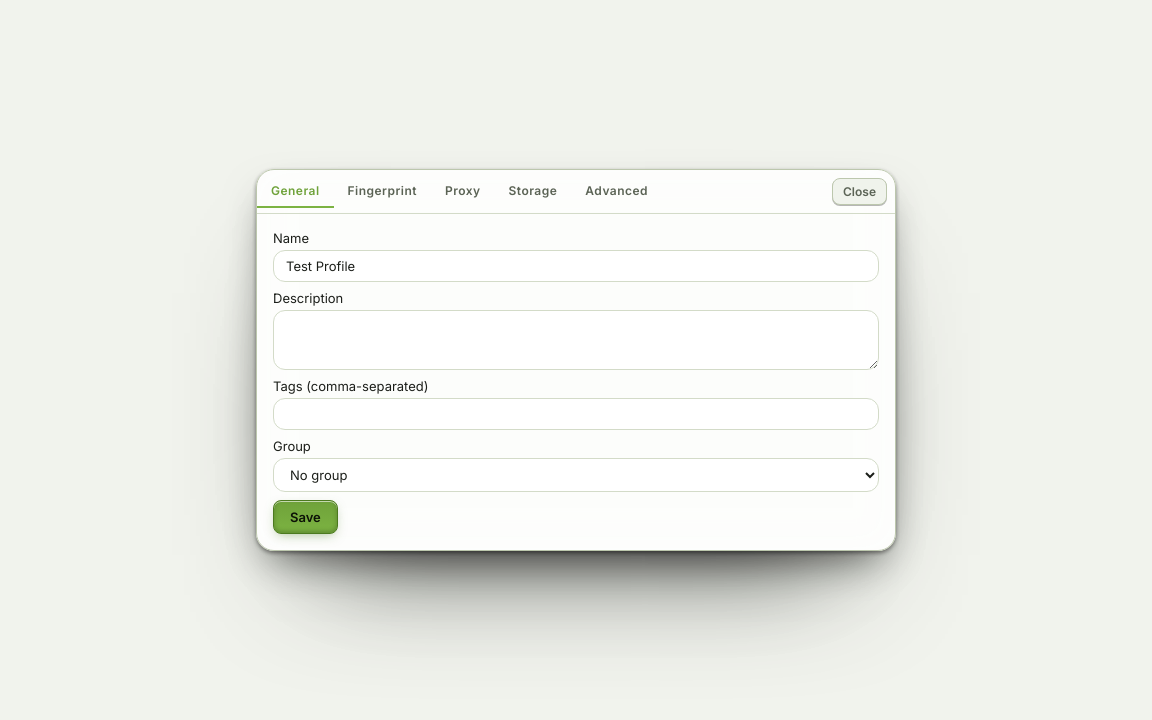
Test: ProfileEditorModal — per-tab unsaved-changes marker › saving General clears its dirty dot
Replace the text in the field labelled "Name" with "Renamed Profile" at x=576, y=266, box top-left (273, 250), bottom-right (879, 282)
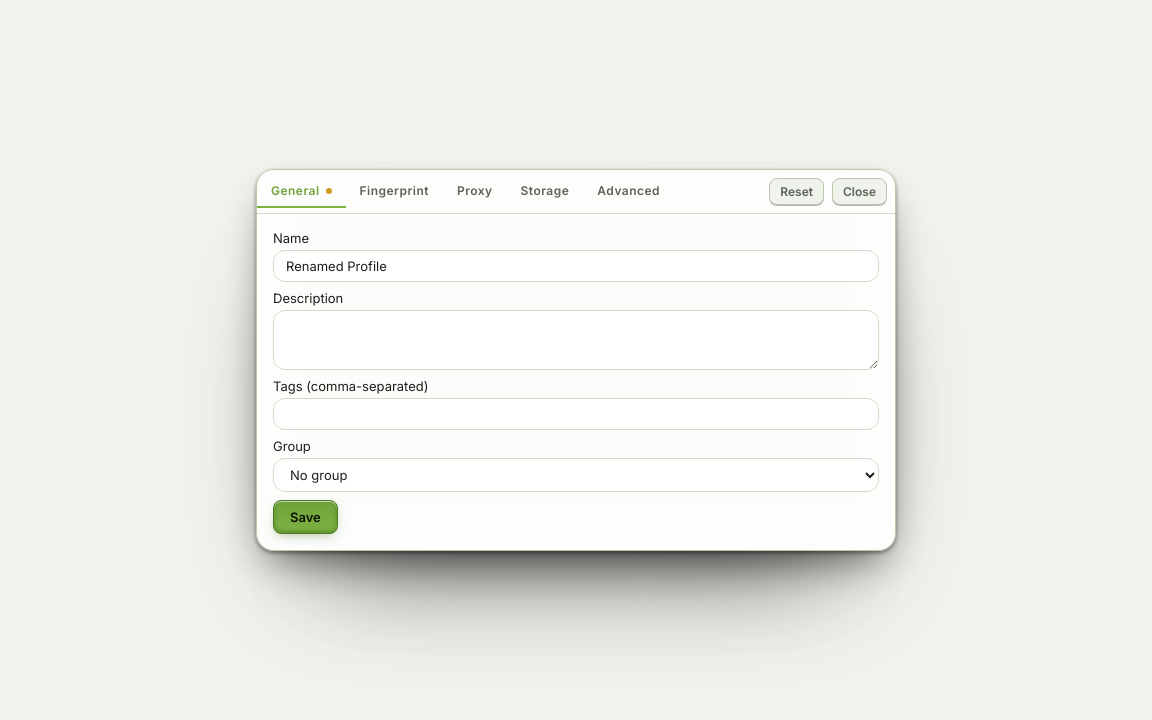
Check: the element with class "tab-dirty-dot" is shown, box top-left (326, 188), bottom-right (332, 194)
Click the button "Save" at x=305, y=517, box top-left (273, 500), bottom-right (338, 534)
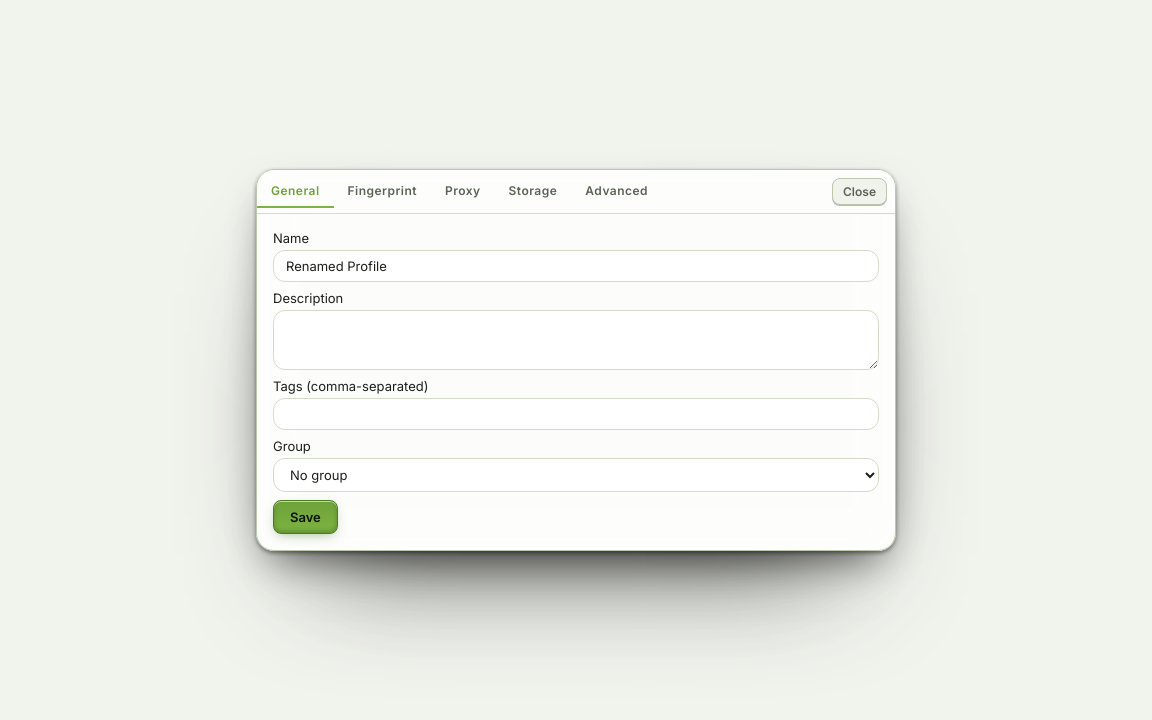
Check: the element with class "tab-dirty-dot" is gone
